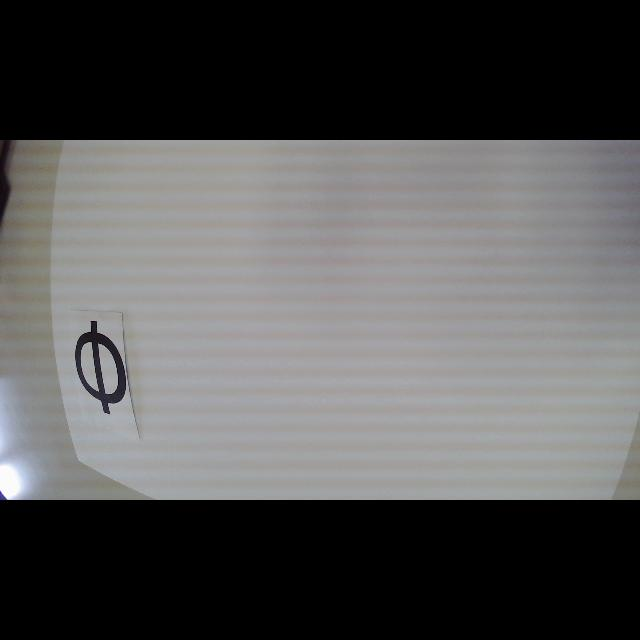PHI: (74, 320, 128, 416)
